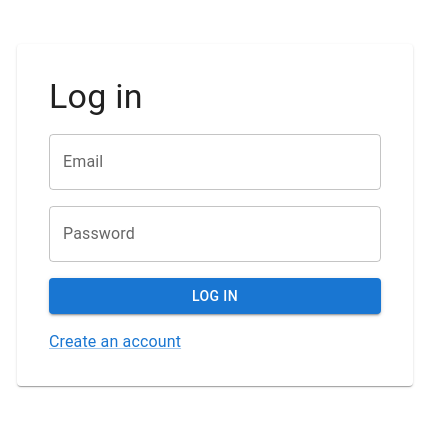
Test case: LoginPage › shows a server-reach error on a network failure
Type "a@b.com" into the field labelled "Email" at coordinates (215, 162), box [49, 134, 381, 190]
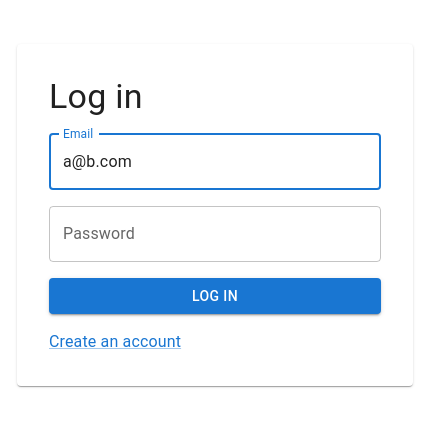
Type "password123" into the password field labelled "Password" at coordinates (215, 234), box [49, 206, 381, 262]
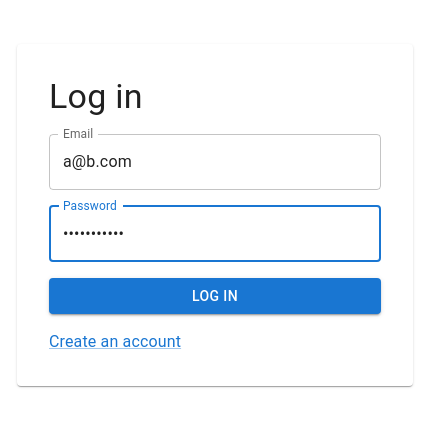
Click the button "Log in" at coordinates (215, 296), box [49, 278, 381, 314]
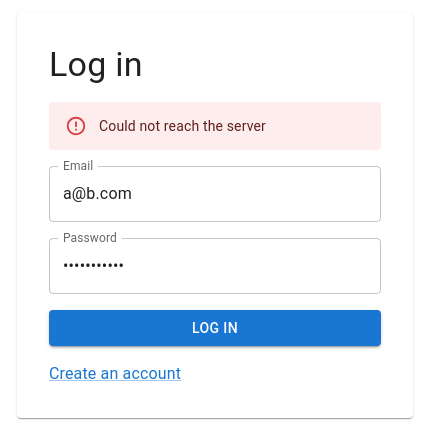
Check: the text "Could not reach the server" is shown, box [99, 118, 266, 134]
